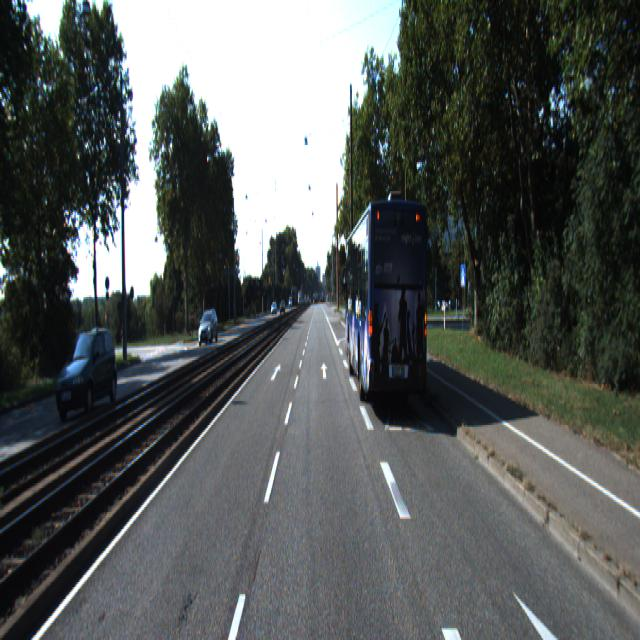Car: (345, 197, 431, 424), (56, 328, 122, 422), (197, 310, 219, 346)
